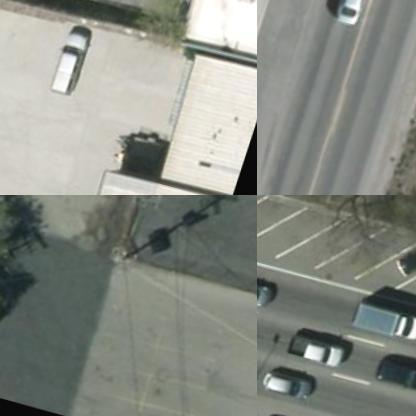car: (49, 24, 105, 106), (352, 297, 415, 347), (291, 329, 356, 367), (267, 361, 321, 399), (381, 346, 415, 392), (393, 223, 415, 282), (334, 0, 379, 28), (257, 268, 280, 307)
